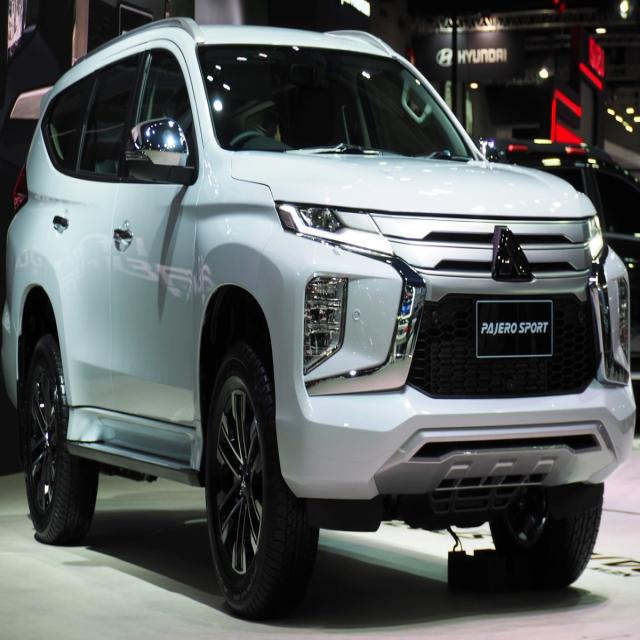light_vehicle: (1, 18, 637, 618)
